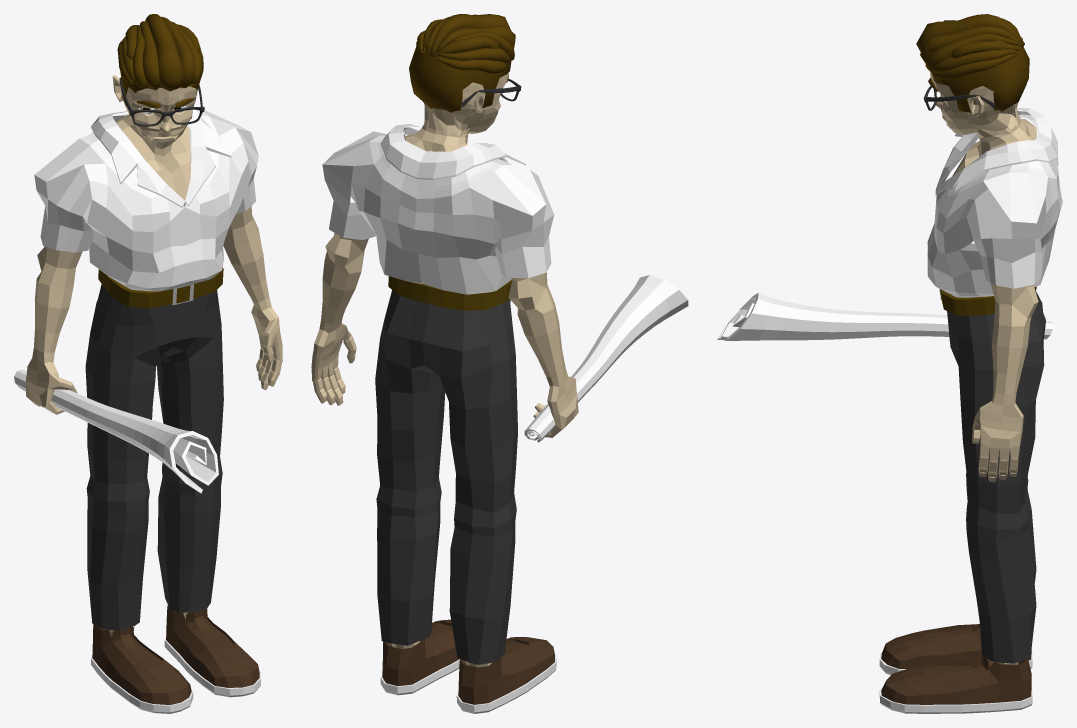
File: Character Self Look alike.glb
3 views of the same model, side by side, from view 1: azimuth 30°, elevation 25°; view 2: azimuth 150°, elevation 25°; view 3: azimuth 270°, elevation 25° (orthographic). The views are drawn at different scales.
Bounding box in the file's own units: 8.9 × 22.85 × 10.72.
